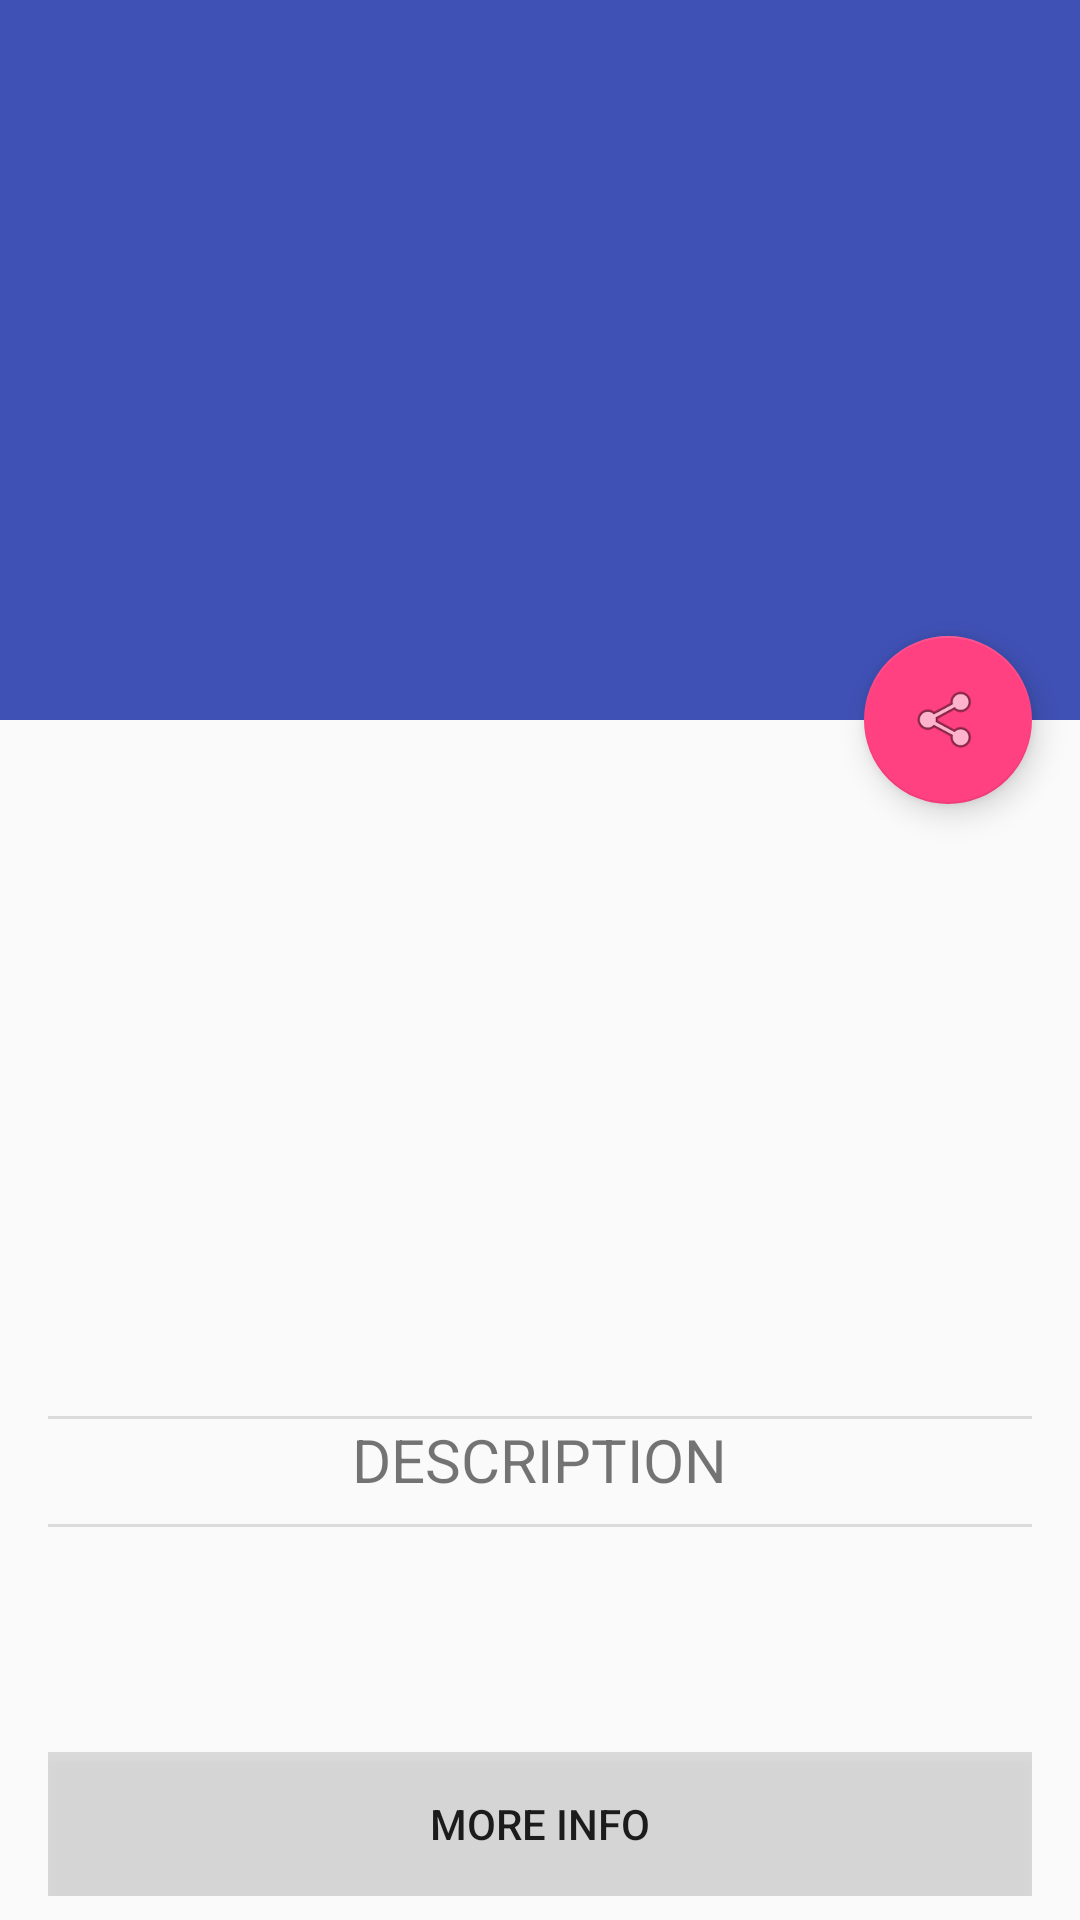

Screen size 1080px×1920px. Icon name, then its center in pixels as point (x, y):
share: point (948, 720)
